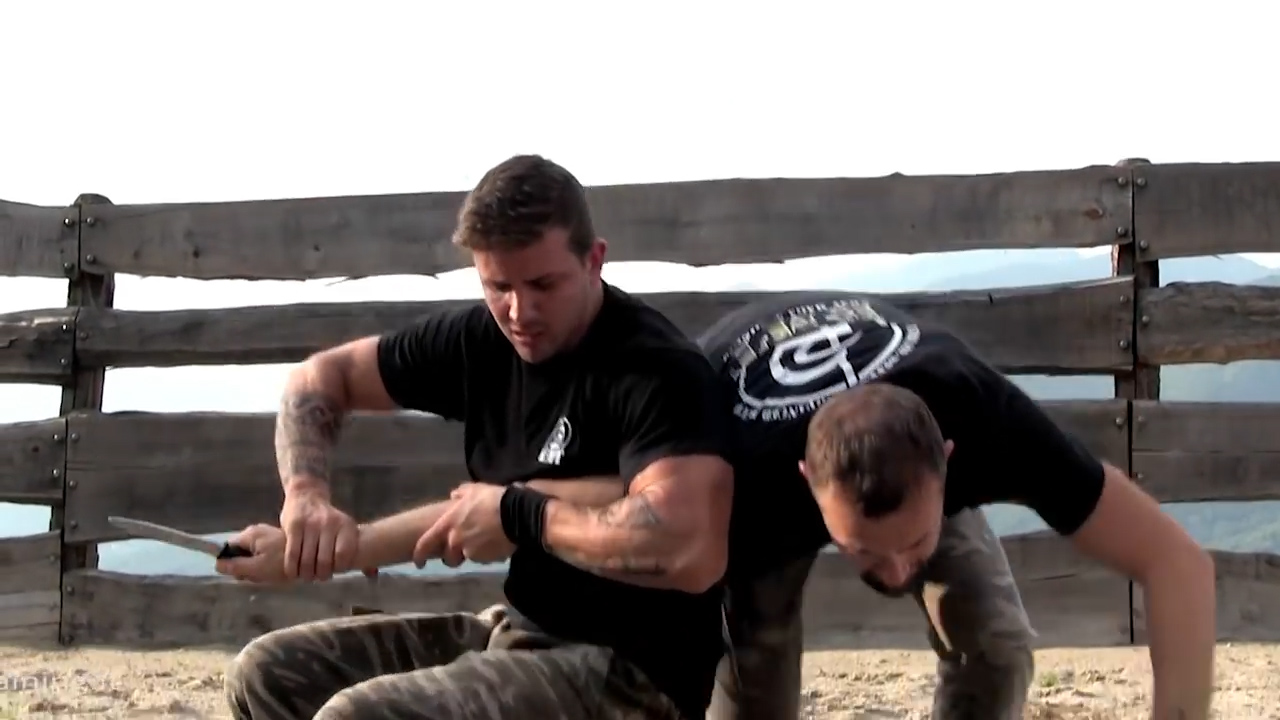knife: (96, 504, 273, 596)
